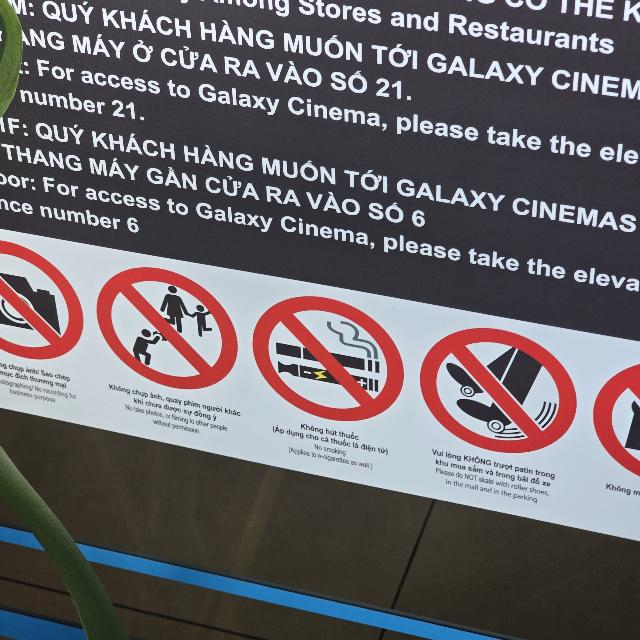cam hut thuoc: (253, 296, 403, 421), (254, 298, 403, 420)
